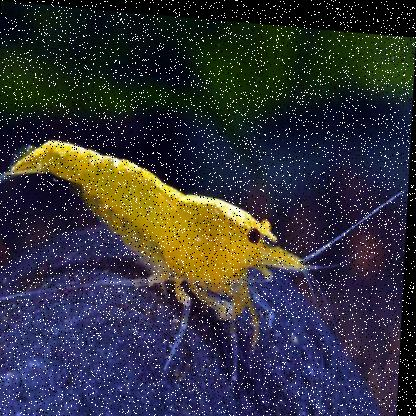shrimp: (0, 130, 316, 374)
